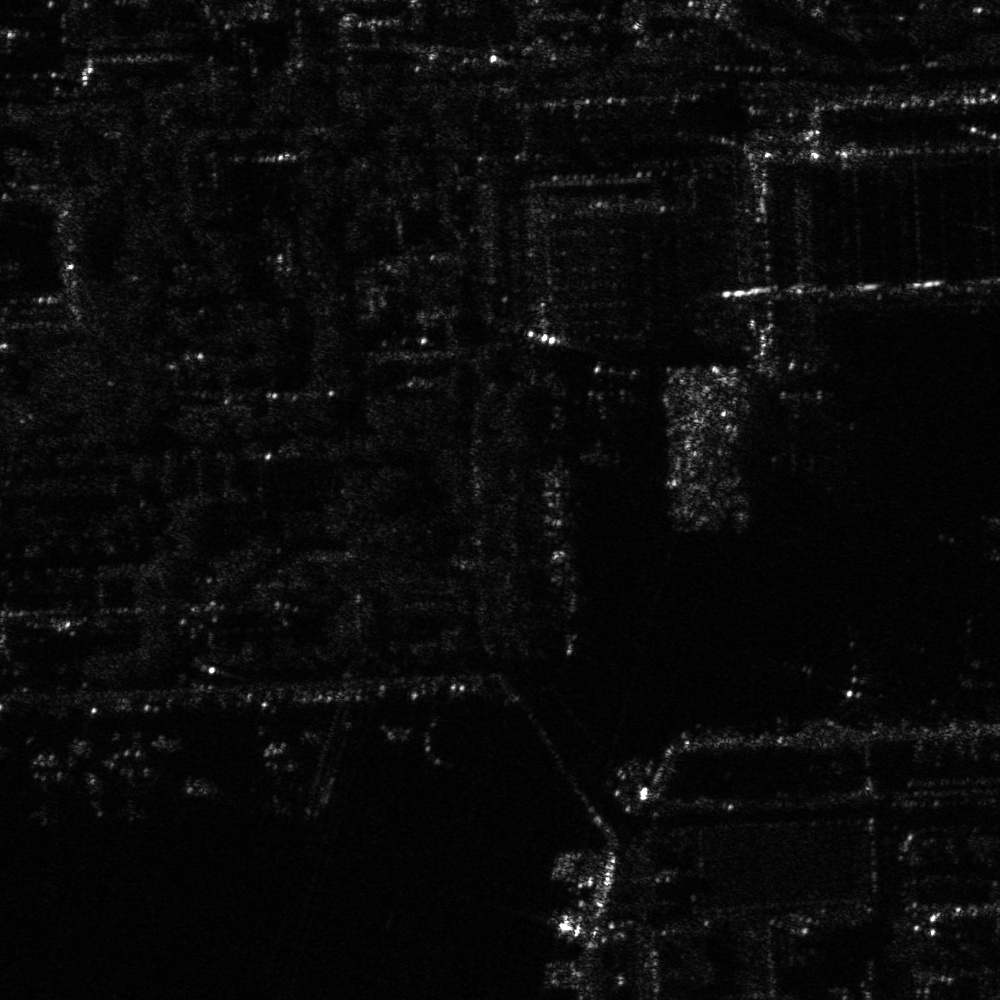ARJ21: (240, 740, 328, 824)
Boeing737: (763, 388, 859, 477), (9, 741, 85, 832), (574, 382, 647, 469)
other: (780, 621, 903, 713), (93, 735, 170, 828)
